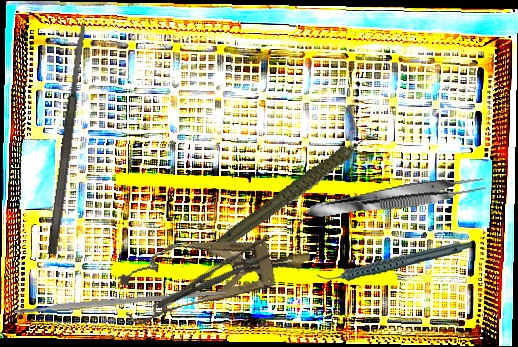Dressing Forceps: (152, 231, 283, 318)
Handpiece: (189, 129, 400, 260), (317, 241, 472, 282)
Scalpel Handle: (14, 287, 226, 316)
Spatula Surgical: (45, 23, 91, 256)
Speculum: (115, 218, 317, 331)
Tissue Forceps: (303, 170, 488, 225)
